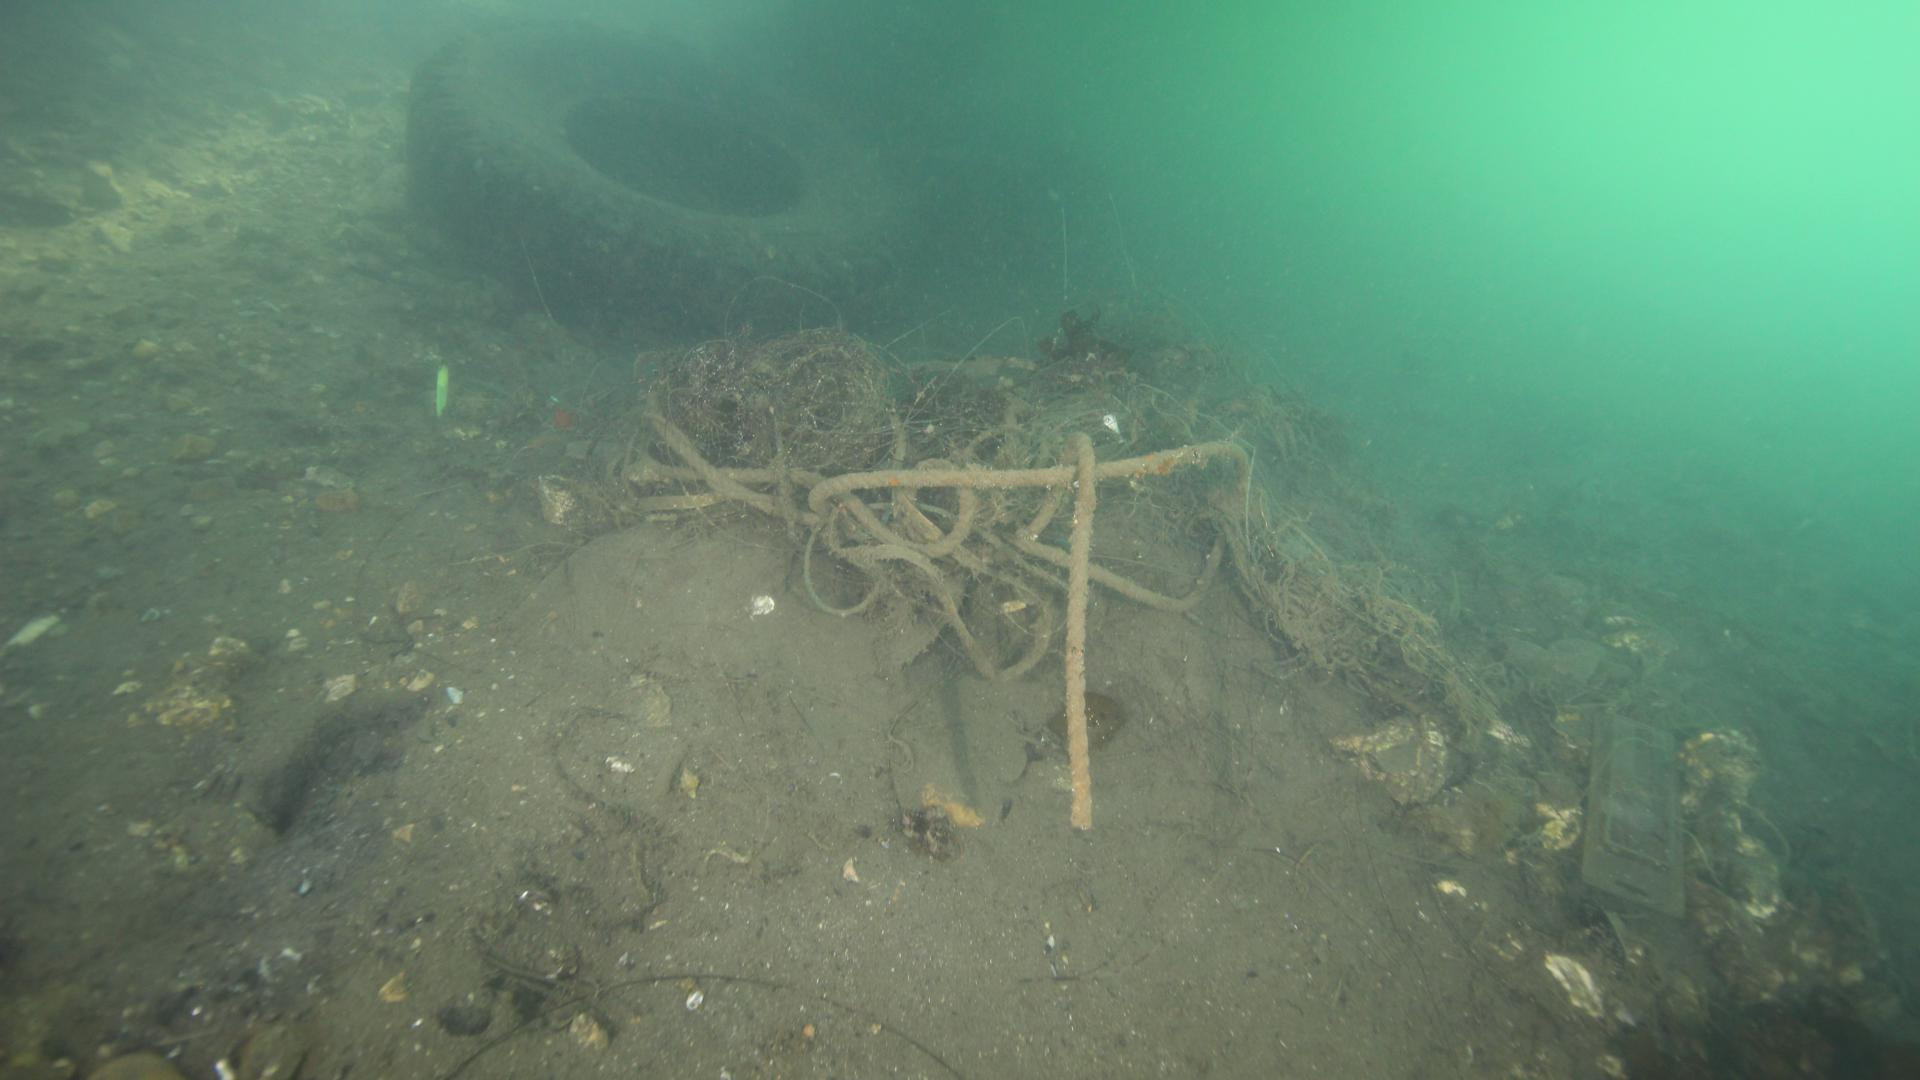bundle of ropes: (604, 363, 1265, 836)
tire: (398, 9, 911, 365)
